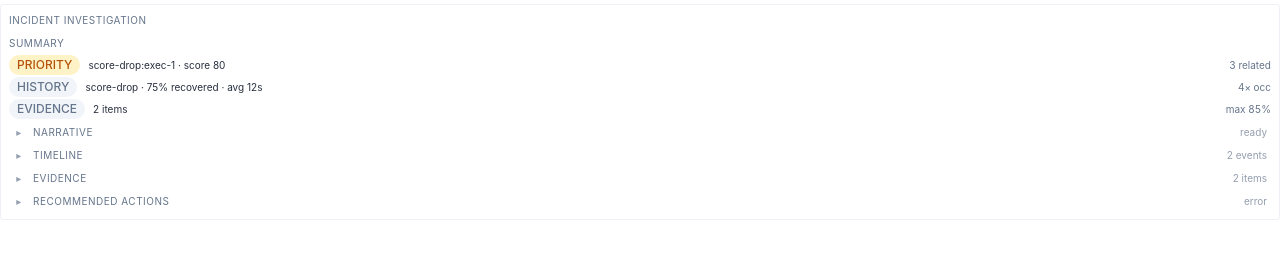
Test: InvestigationWorkspace › shows section-level error when one endpoint fails, others still render
This screenshot has width=1280, height=256.
Check: the text "score-drop:exec-1 · score 80" is shown, box [88,59,225,71]
// Expand the actions section so its error body becomes visible.
Step 1. Click the button "▸ Recommended actions error" → (101, 201), box [9,192,1271,211]
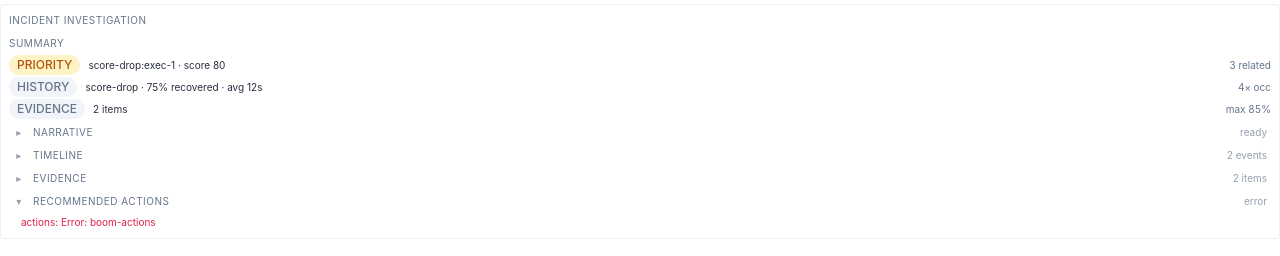
Check: the text "score-drop:exec-1 · score 80" is shown, box [88,59,225,71]
Check: the text "actions: Error: boom-actions" is shown, box [21,216,156,228]
